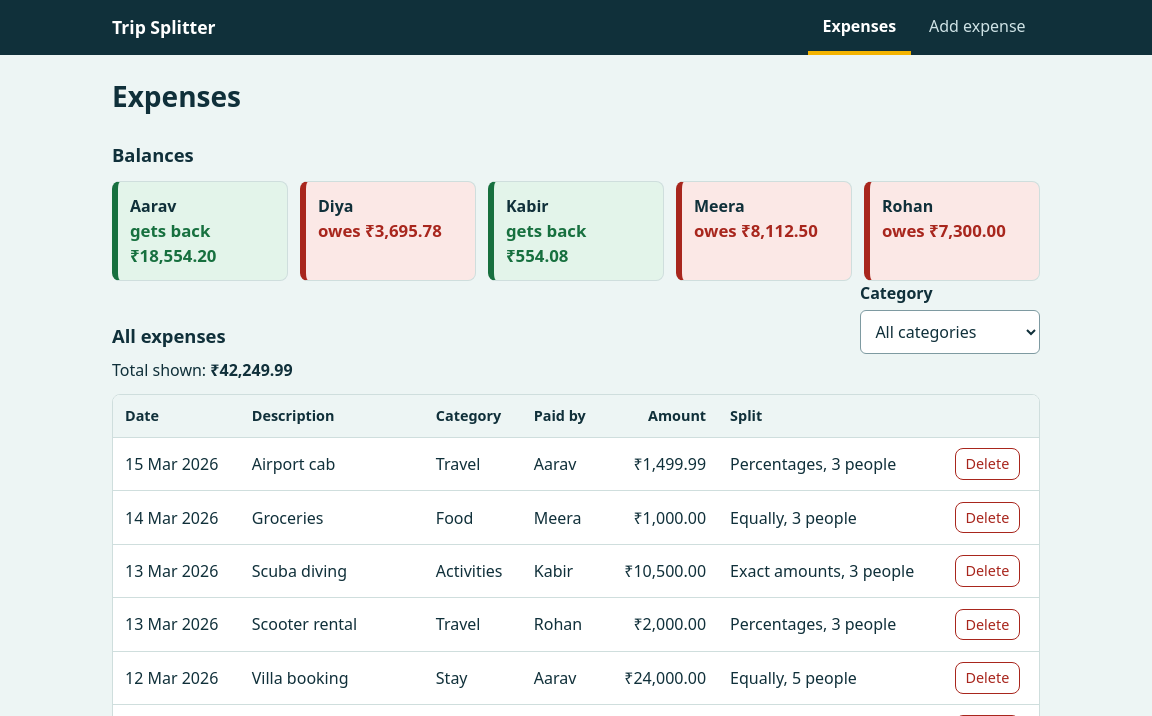
Test case: Expenses page › filters by category and shows the total of what is shown
Select "Food" in the dropdown labelled "Category": (950, 332) [860, 310, 1040, 354]
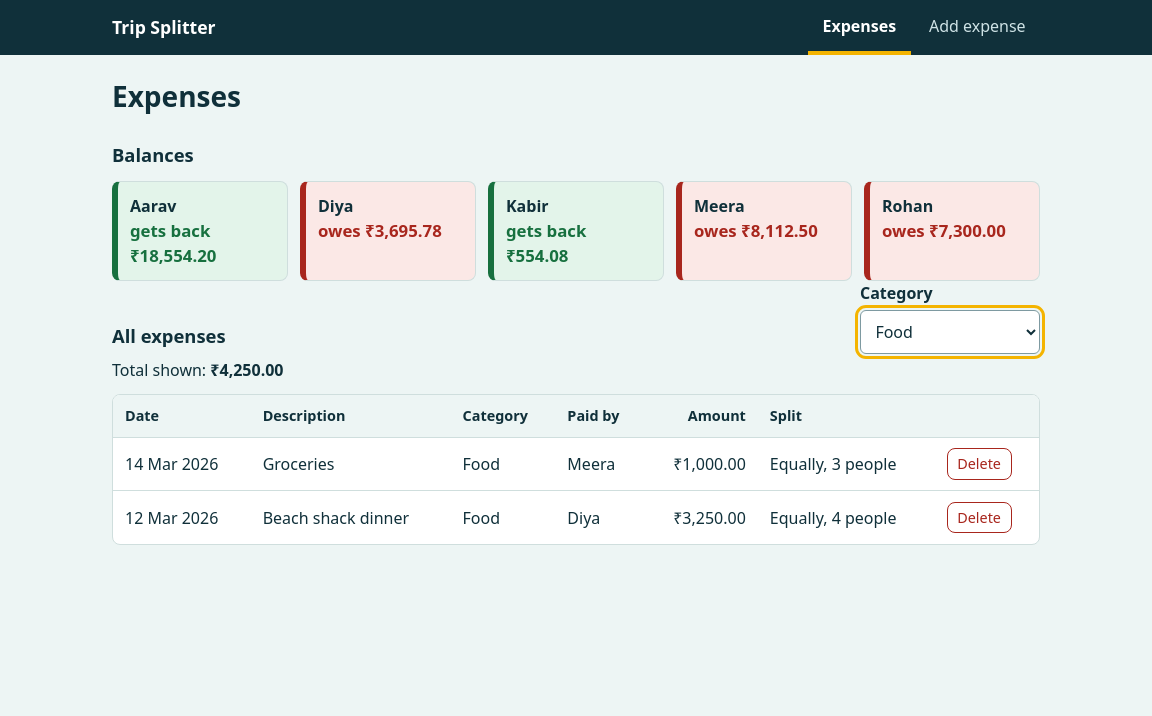
Check: the text "₹4,250.00" is shown, box [210, 359, 284, 381]
Check: the text "Villa booking" is gone
